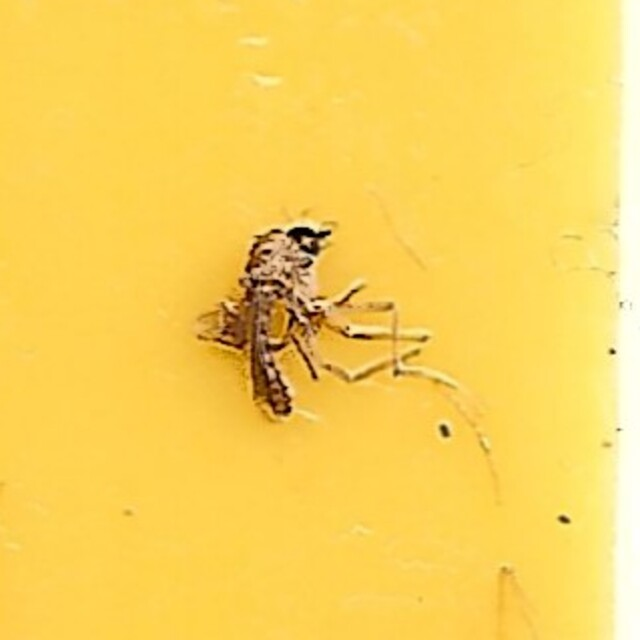Nematocera: (201, 201, 439, 439)
